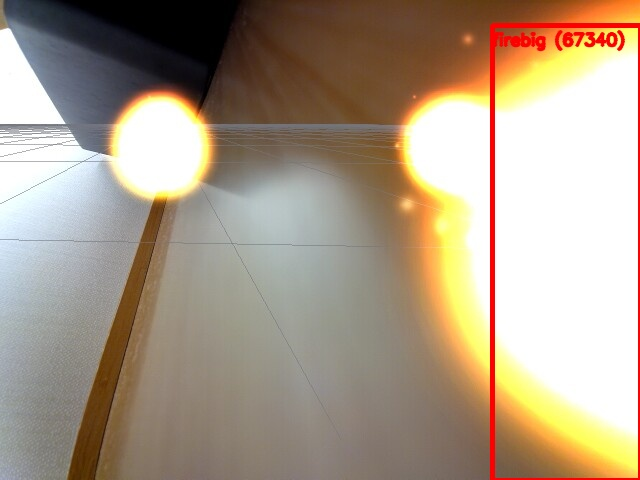firebig: (492, 25, 640, 480)
